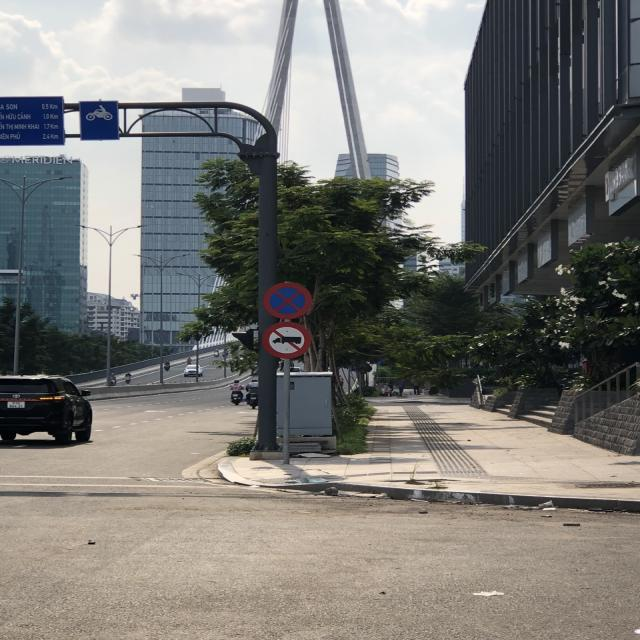Bien bao cam dung xe va do xe: (260, 276, 319, 321)
Bien bao cam xe so-mi ro-mooc: (259, 322, 315, 359)
